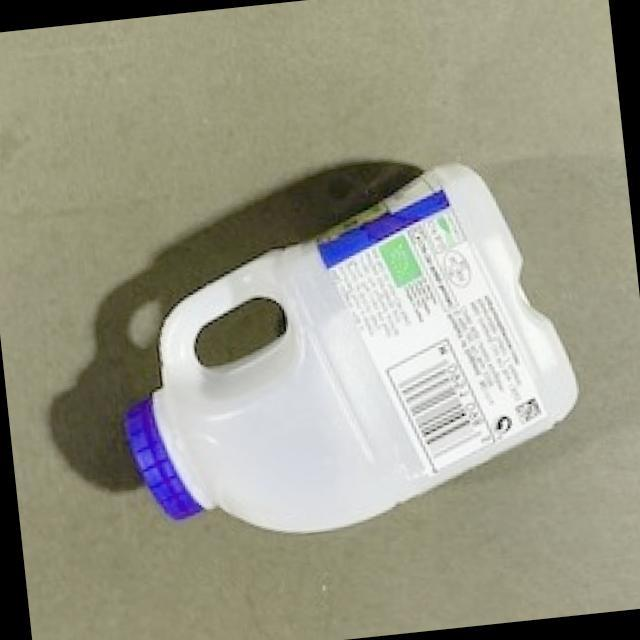HDPE Plastic: (122, 158, 585, 537)
